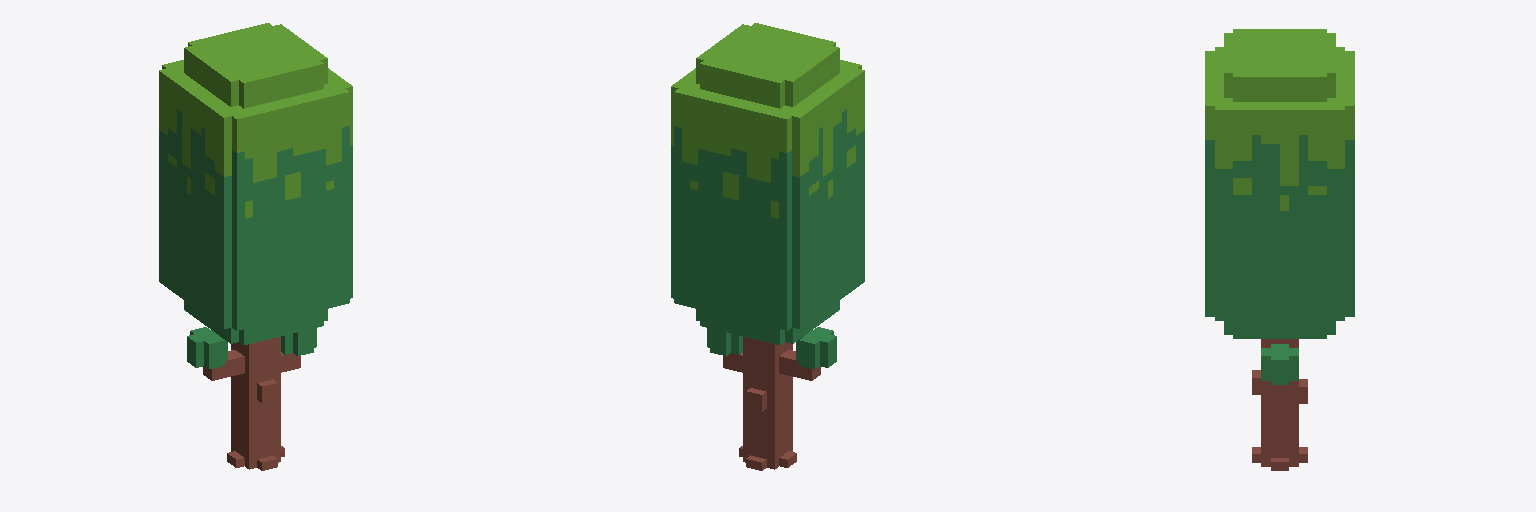
The picture shows the model from 3 angles: view 1: azimuth 30°, elevation 25°; view 2: azimuth 150°, elevation 25°; view 3: azimuth 270°, elevation 25°; orthographic projection.
Parts seen in each view (by area): view 1: object 1; view 2: object 1; view 3: object 1.
Boxes of the visible parts, box(x1,y1,x2,y2) form: object 1: box(159, 23, 352, 470); object 1: box(671, 23, 864, 470); object 1: box(1205, 29, 1354, 470).
Bounding box in the file's own units: 1.6 × 4.8 × 1.6.
1 materials, 1 textured.